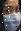with_mask: (1, 2, 21, 31)
